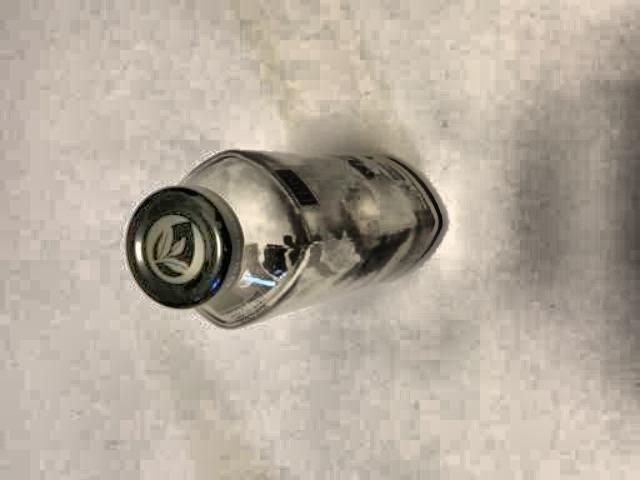Bottles: (118, 124, 467, 341)
